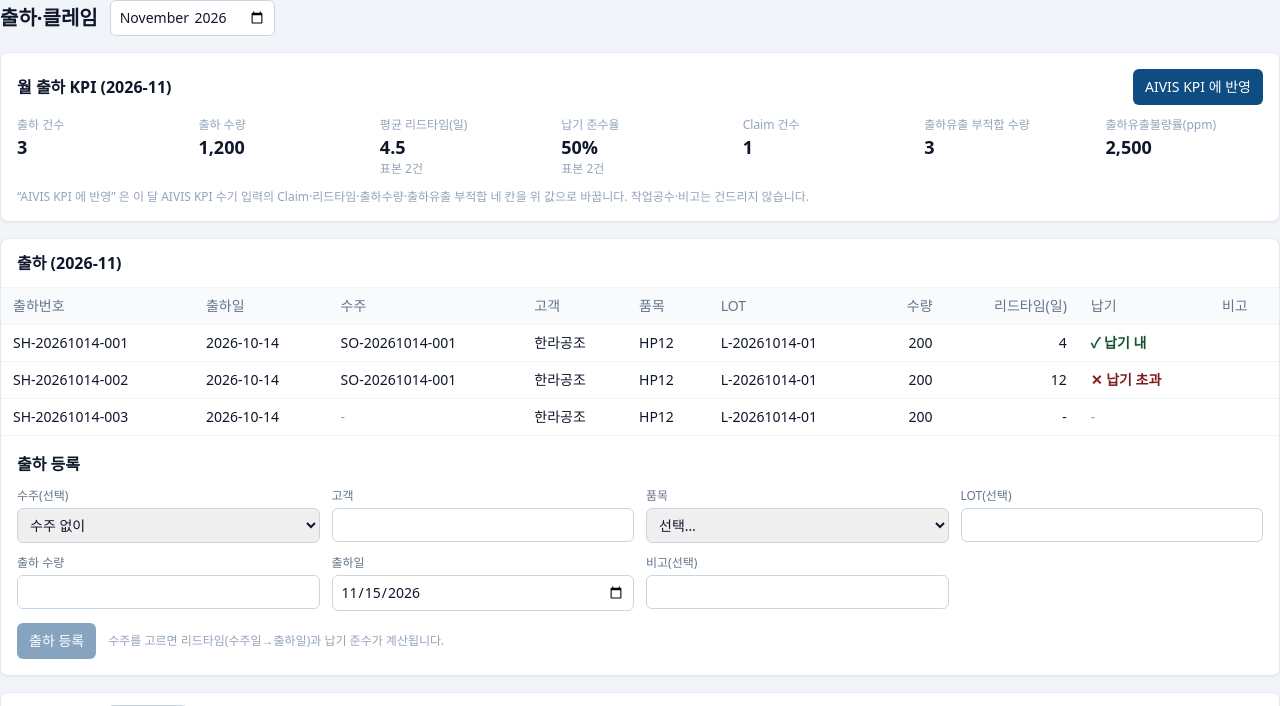
MesShippingPage — 출하·클레임 등록 › 출하 등록: 수주를 고르면 고객·품목·남은 수량이 채워진다
Select "SO-20261014-001 · 한라공조 · HP12 (200/500)" in the dropdown with test id "ship-so": (168, 526) [17, 508, 320, 543]
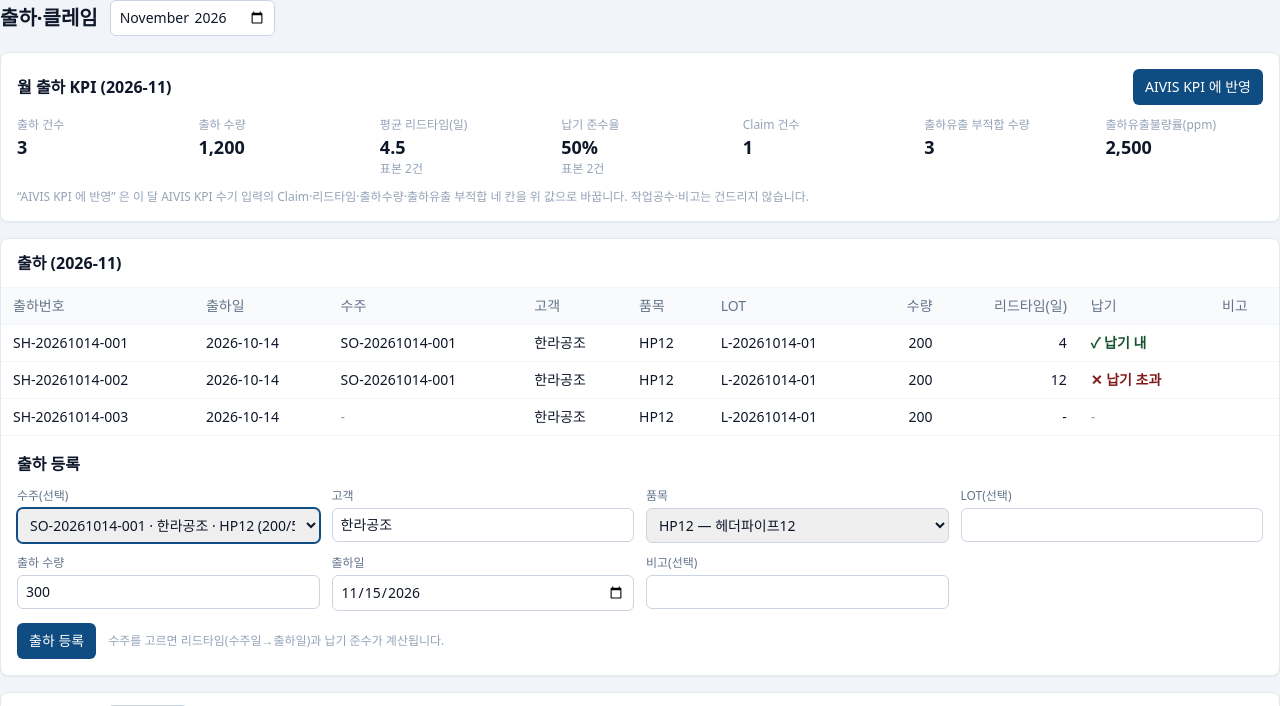
Expected: the field labelled "고객" holds "한라공조", [332, 508, 634, 542]
Expected: the dropdown with test id "ship-item" shows "HP12 — 헤더파이프12", [646, 508, 948, 543]
Expected: the number field labelled "출하 수량" holds "300", [17, 575, 320, 609]
In the field labelled "LOT(선택)": (1112, 525) [960, 508, 1263, 542], type "L-20261014-01"
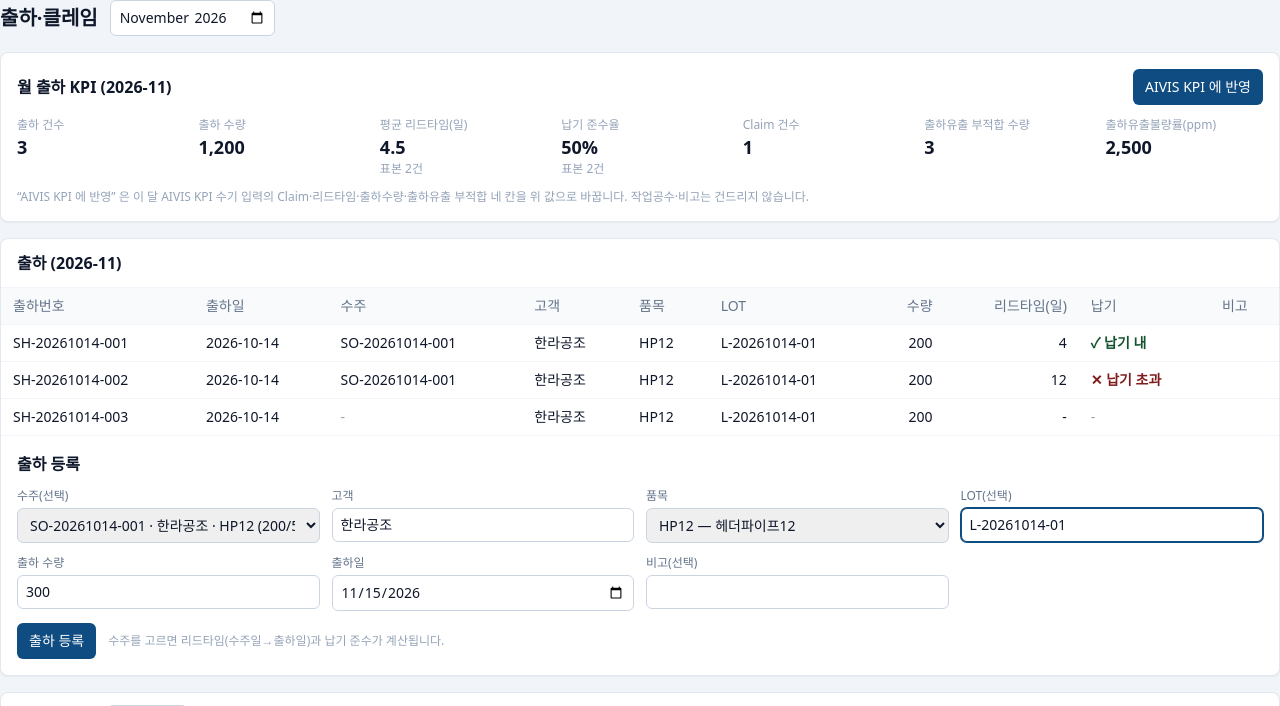
Click the button with test id "ship-submit": (57, 641) [17, 623, 96, 659]
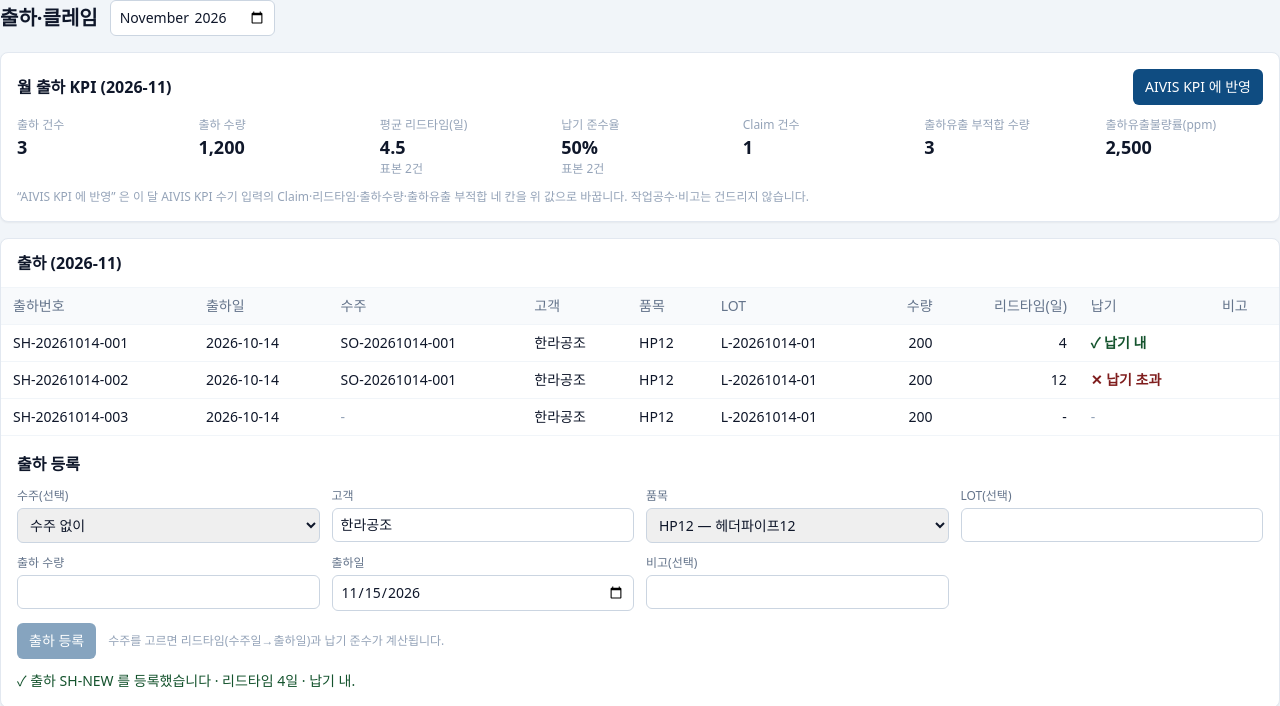
Expected: the text "✓ 출하 SH-NEW 를 등록했습니다 · 리드타임 4일 · 납기 내." is shown, [17, 671, 355, 690]
